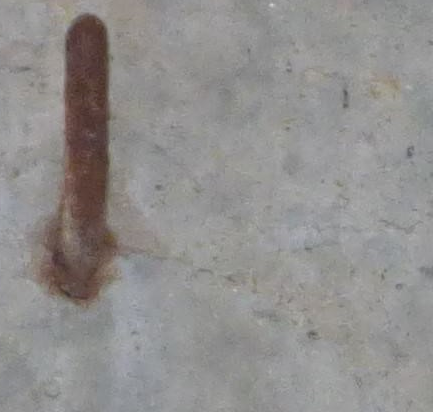Exposed reinforcement: (51, 12, 110, 300)
